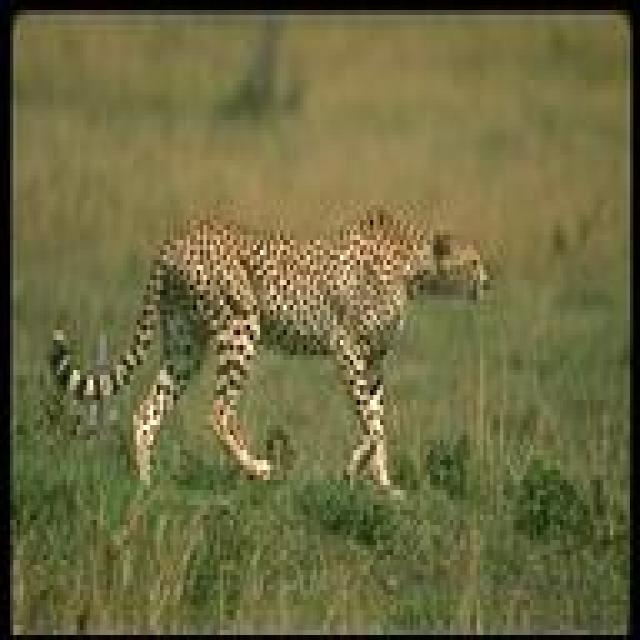Leopard: (53, 208, 492, 492)
